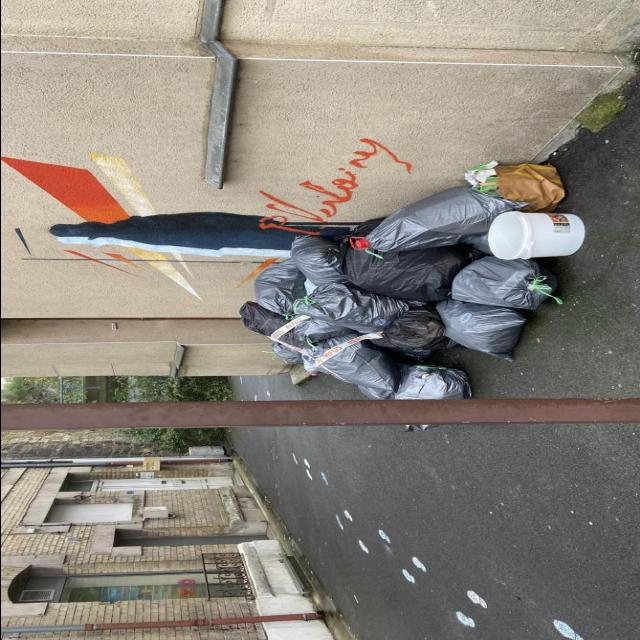garbage: (222, 150, 589, 430)
